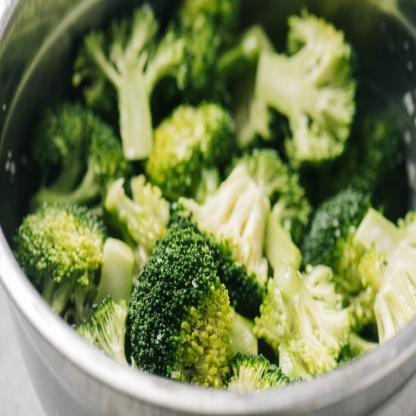broccoli: (4, 0, 416, 398)
